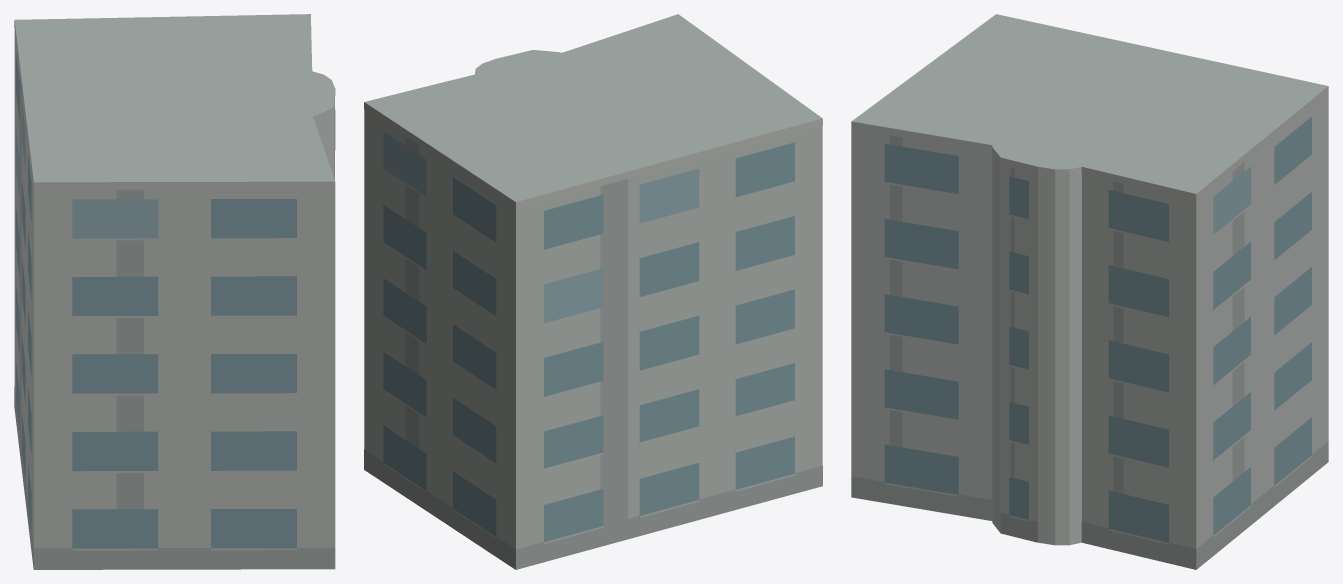
File: survey-upis-32734760.glb
The picture shows the model from 3 angles, left to right: view 1: azimuth 30°, elevation 25°; view 2: azimuth 150°, elevation 25°; view 3: azimuth 270°, elevation 25°; orthographic projection. The views are drawn at different scales.
Parts seen in each view (by area): view 1: survey-upis-32734760.tmp; view 2: survey-upis-32734760.tmp; view 3: survey-upis-32734760.tmp.
Part boxes in pixels (<box>): survey-upis-32734760.tmp: <box>14,14,335,569</box>; survey-upis-32734760.tmp: <box>364,14,822,569</box>; survey-upis-32734760.tmp: <box>851,14,1328,569</box>.
Bounding box in the file's own units: 12.64 × 12.3 × 14.16.
